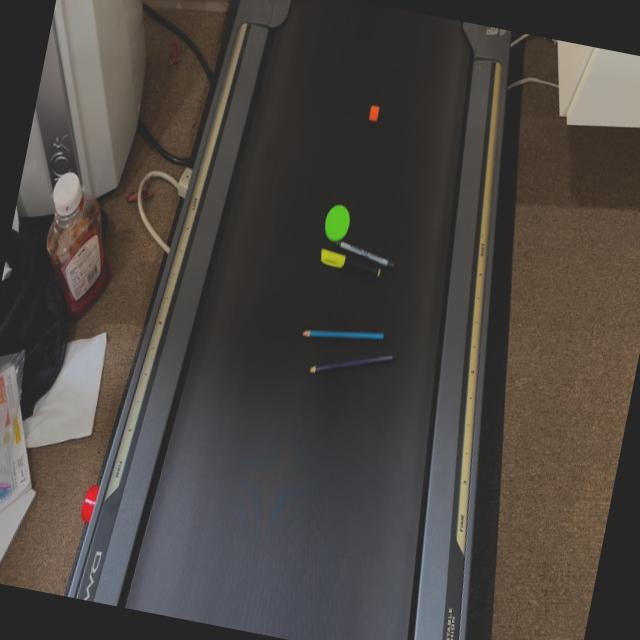Trash: (314, 200, 408, 290), (293, 317, 400, 392), (366, 103, 382, 123)
